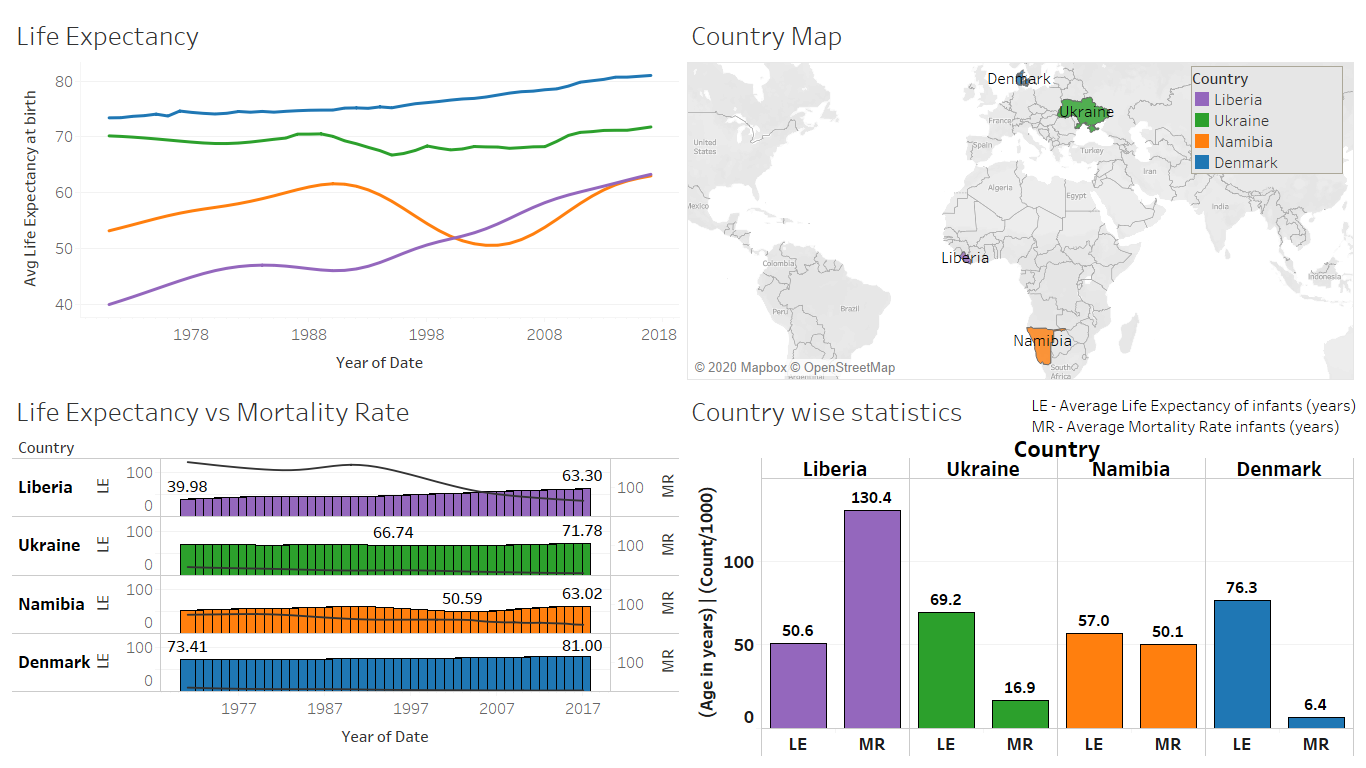

Layout of this report page (visuals, bound fields, positions):
{"tool":"tableau","page":{"name":"Dashboard 1","canvas":[1366,768],"ordinal":0},"visuals":[{"type":"worksheet","title":"Life Expectancy","mark":"Automatic","rows":["Life Expectancy at birth total (years)"],"cols":["Date"],"box":[8,8,675,376]},{"type":"worksheet","title":"Country Map","mark":"Multipolygon","box":[683,8,675,376]},{"type":"legend","title":"Life Expectancy","param":"[federated.00d0i770zwkqk81fhzse219bh4bw].[none:Country:nk]","box":[1187,62,160,130]},{"type":"text","box":[1028,380,340,71]},{"type":"worksheet","title":"Life Expectancy vs Mortality Rate","mark":"Bar","rows":["Country","Life Expectancy at birth total (years)","Mortality Rate infant (per 1000 births)"],"cols":["Date"],"box":[8,384,675,376]},{"type":"worksheet","title":"Country wise statistics","mark":"Bar","cols":["Country"],"box":[683,384,675,376]}]}

Visuals, with their boxes in screenshot pixels (x1, y1, x2, y2), scaled from the page's 1366x768 canvas onto the 1366x768 screenshot:
"Life Expectancy" worksheet: 8/8/683/384
"Country Map" worksheet (Multipolygon marks): 683/8/1358/384
"Life Expectancy" legend: 1187/62/1347/192
text: 1028/380/1365/451
"Life Expectancy vs Mortality Rate" worksheet (Bar marks): 8/384/683/760
"Country wise statistics" worksheet (Bar marks): 683/384/1358/760
